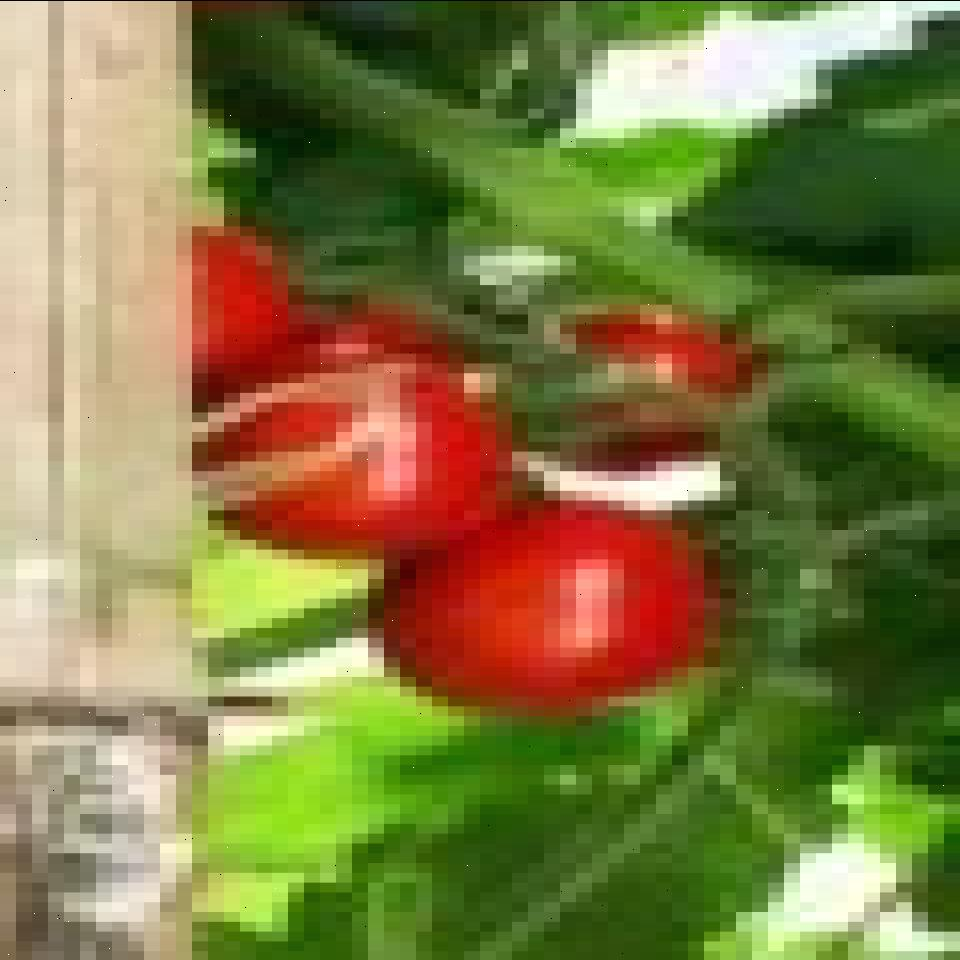Healthy: (221, 344, 497, 572), (396, 506, 696, 712)
